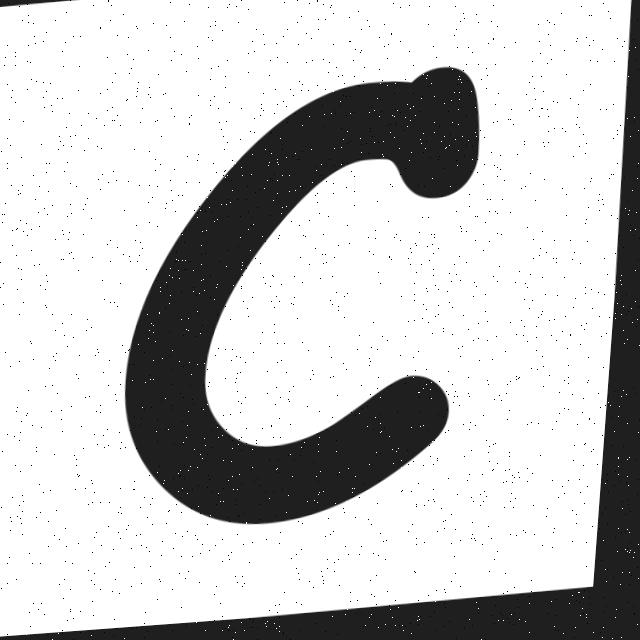C: (131, 74, 482, 528)
